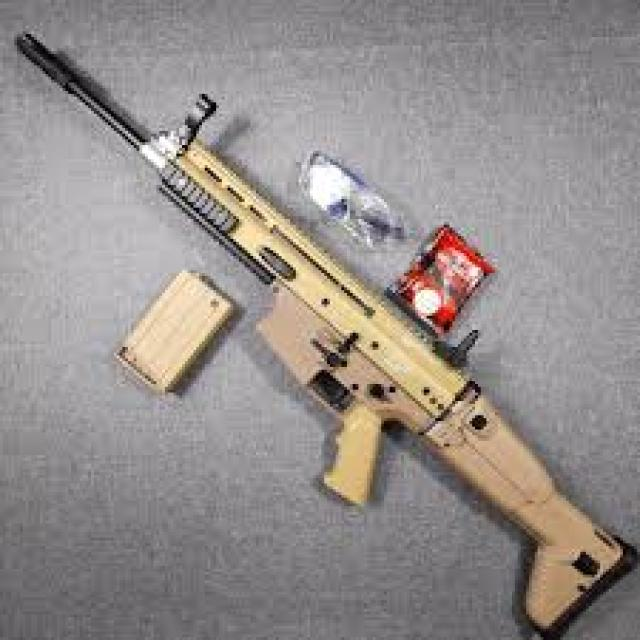Gun: (19, 29, 640, 631)
